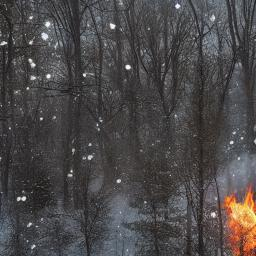Small fire: (221, 190, 256, 256)
